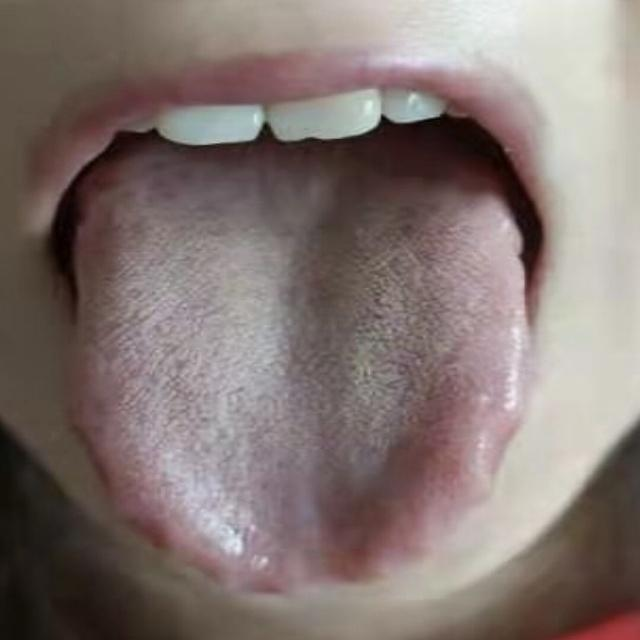baitaishe: (71, 138, 529, 595)
chihenshe: (74, 429, 230, 588)
